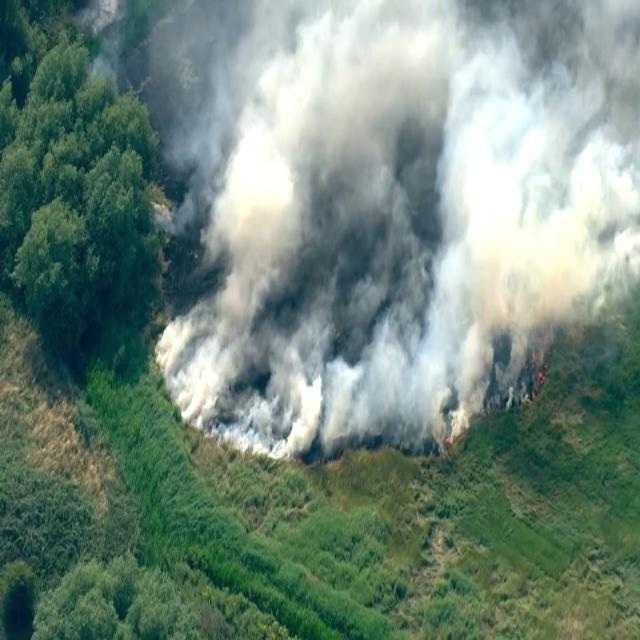Smoke: (224, 23, 381, 301), (398, 97, 591, 308), (164, 288, 296, 467)
